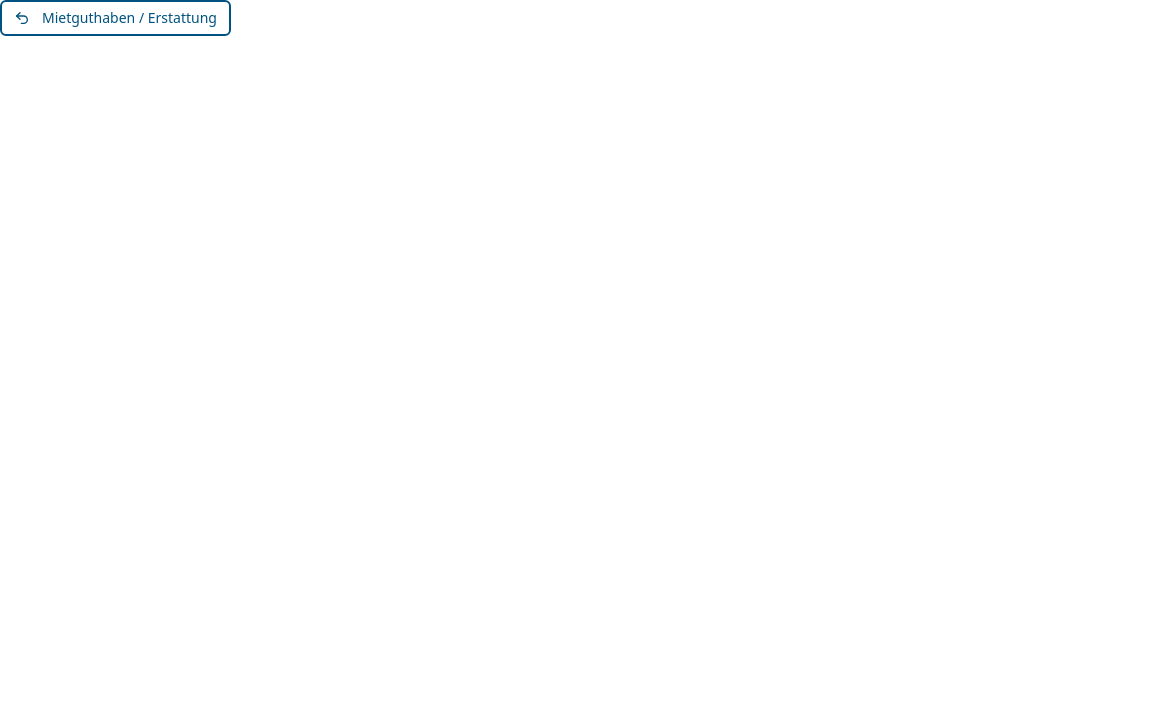
Test: rental credit information › offers UHSMCV's 29.75 euro rent separately from its 100 euro deposit without an invoice id
This screenshot has width=1152, height=720.
Later steps or results of the test are not shown.
What coordinates should you click on to do the following:
click the button "Mietguthaben / Erstattung"
I would click on:
 (115, 18)
Its box is 0,0 -> 231,36.
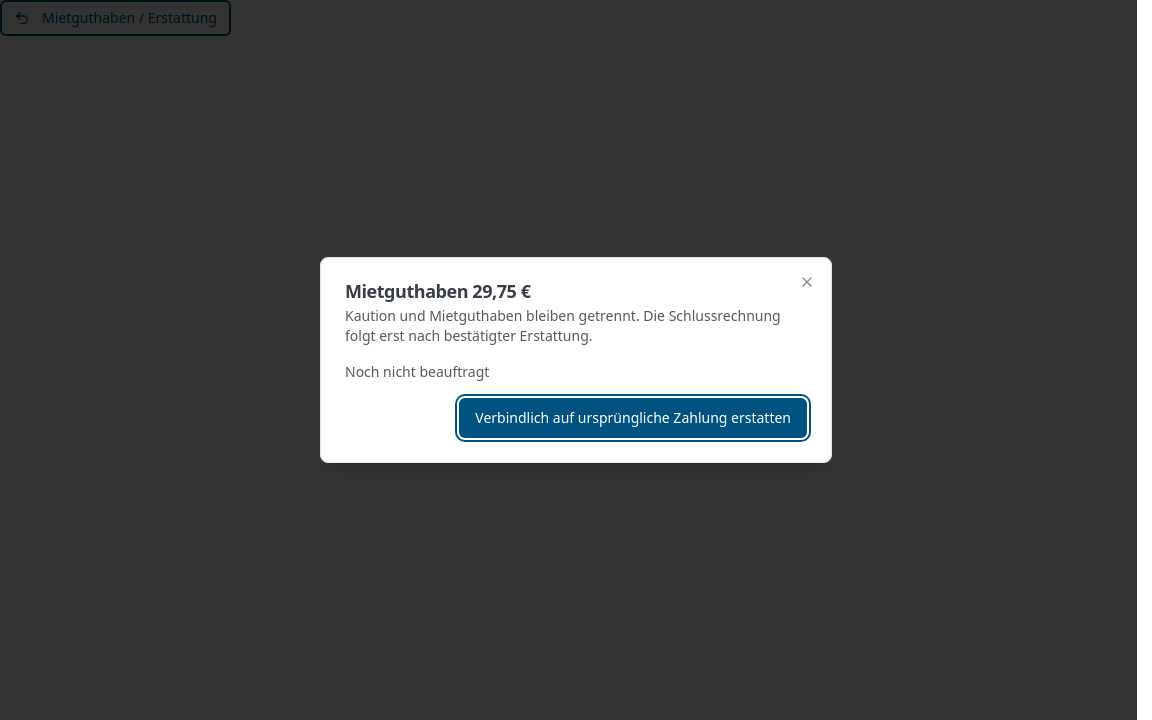
Expected: the dialog is shown, 320,257 -> 832,463
Expected: the heading "Mietguthaben 29,75 €" is shown, 345,279 -> 530,303
